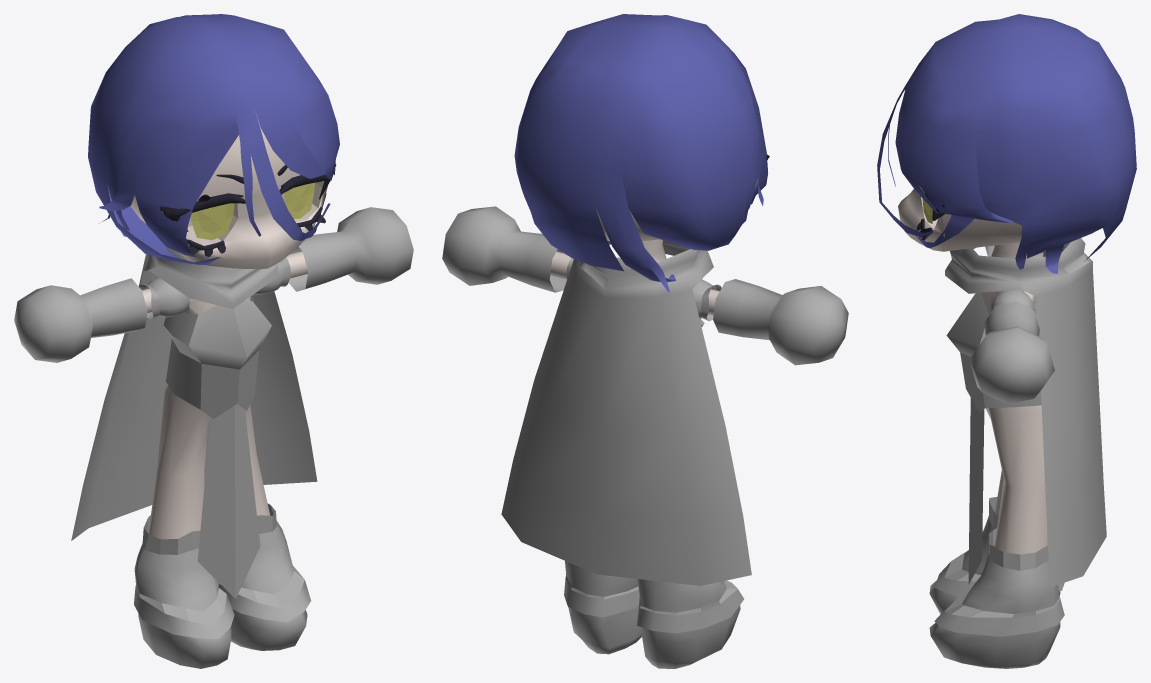
Rendered from Brave_model_test.fbx.
3 views of the same model, side by side, from view 1: azimuth 30°, elevation 25°; view 2: azimuth 150°, elevation 25°; view 3: azimuth 270°, elevation 25° (orthographic).
Parts seen in each view (by area): view 1: polySurface11; view 2: polySurface11; view 3: polySurface11.
Boxes of the visible parts, x1,y1,x2,y2 form: polySurface11: (14, 14, 413, 668); polySurface11: (442, 14, 848, 668); polySurface11: (877, 14, 1136, 668).
Bounding box in the file's own units: 156 × 242 × 91.41.
